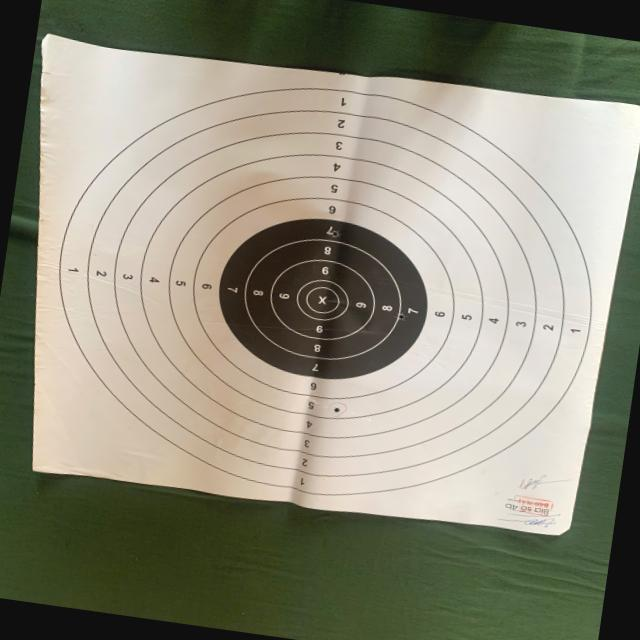bullet: (332, 231, 340, 237), (399, 313, 404, 319), (336, 407, 339, 411)
target: (31, 37, 640, 535)
